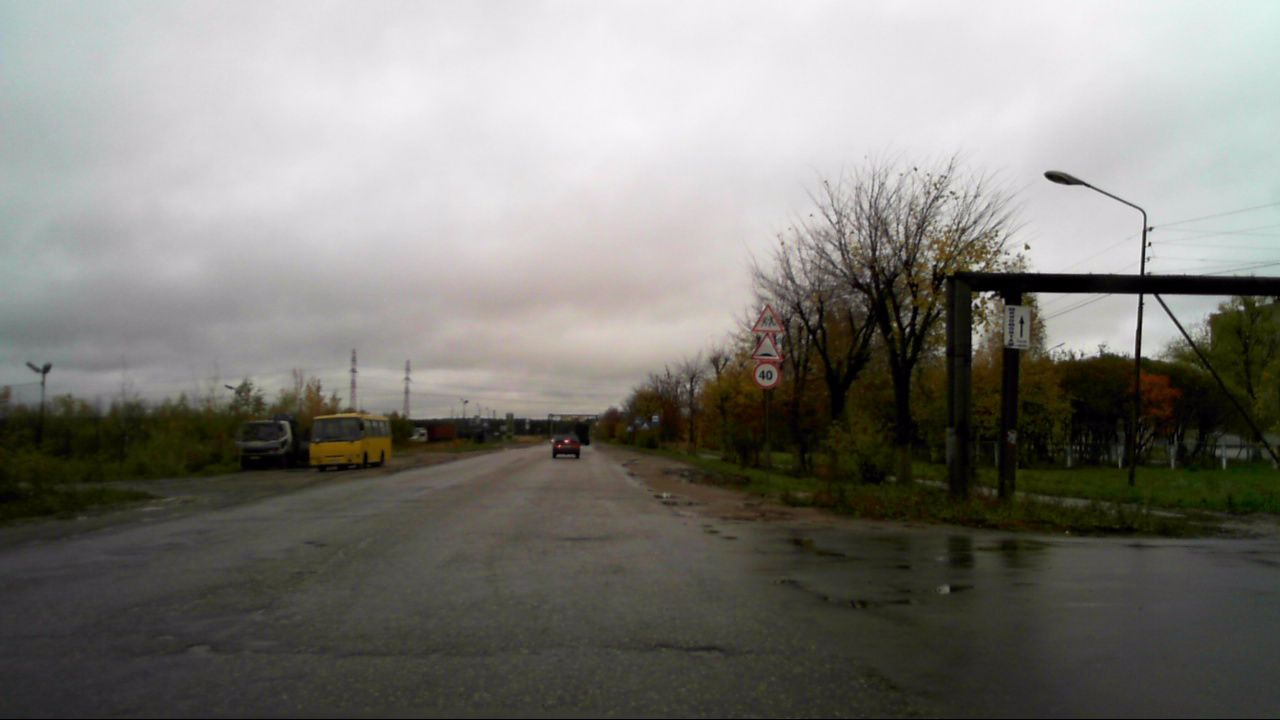speed_warning_40: (752, 361, 780, 390)
